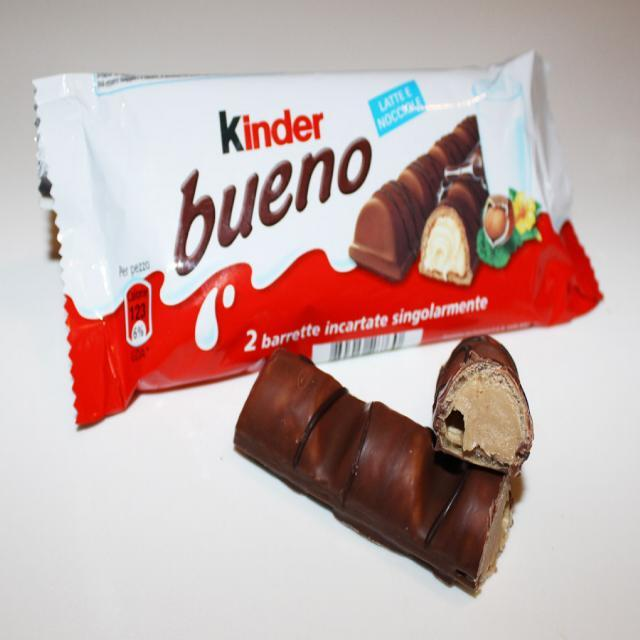Chocolate bar: (29, 47, 605, 429)
Chocolate bar packaged: (232, 347, 514, 618), (428, 334, 537, 475)
